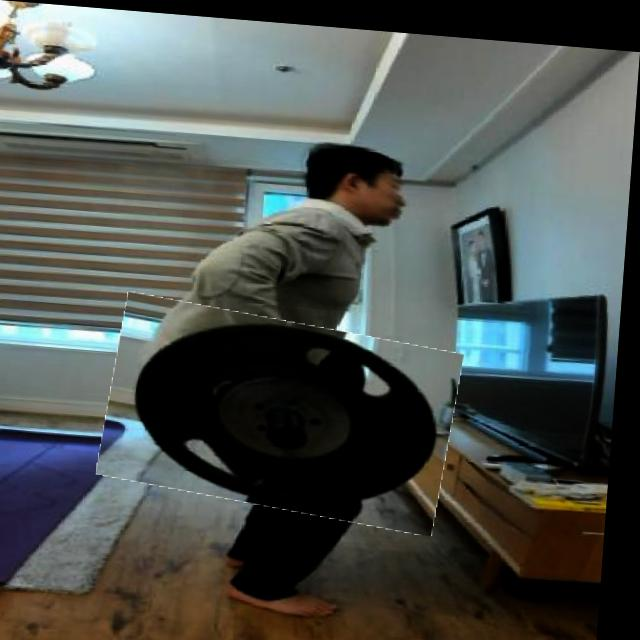barbell: (107, 297, 467, 521)
